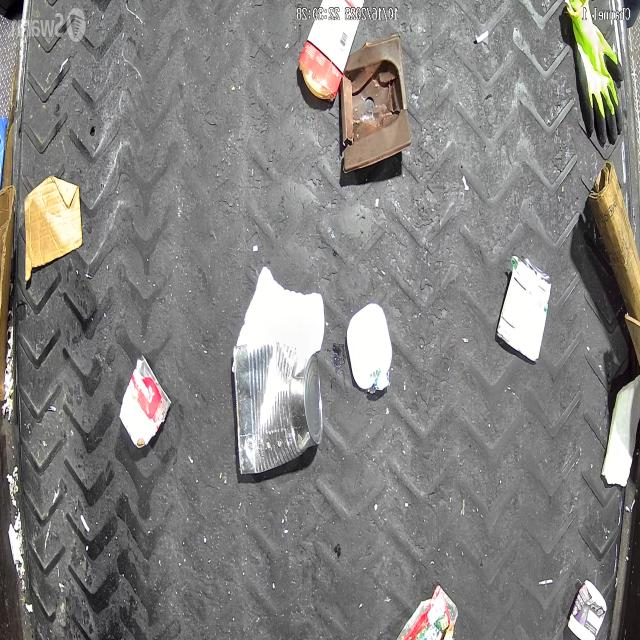can: (233, 340, 323, 474), (496, 253, 552, 365), (118, 354, 171, 448)
